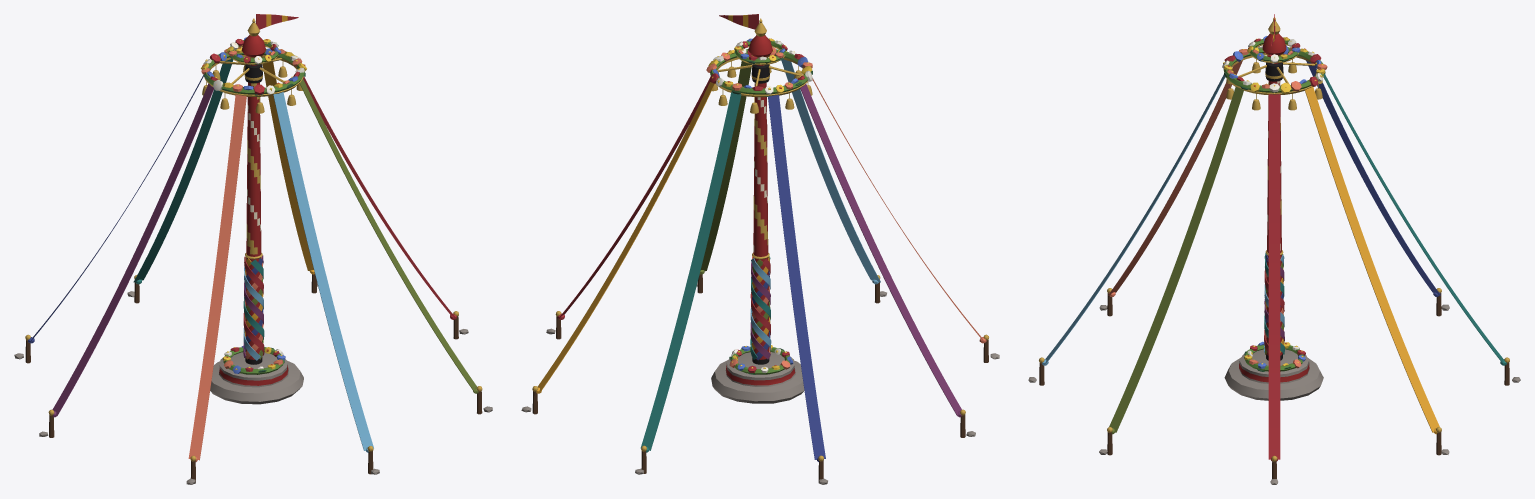
File: deco_maypole.fbx
3 renders of one model, left to right at view 1: azimuth 30°, elevation 25°; view 2: azimuth 150°, elevation 25°; view 3: azimuth 270°, elevation 25°, orthographic.
Parts seen in each view (by area): view 1: Maypole_Ribbons, Maypole_Pole, Maypole_Crown, Maypole_Base, Maypole_Pegs; view 2: Maypole_Ribbons, Maypole_Pole, Maypole_Crown, Maypole_Base, Maypole_Pegs; view 3: Maypole_Ribbons, Maypole_Crown, Maypole_Base, Maypole_Pole, Maypole_Pegs.
Boxes of the visible parts, x1,y1,x2,y2 form: Maypole_Ribbons: (28, 57, 478, 461); Maypole_Pole: (243, 64, 264, 364); Maypole_Crown: (201, 18, 306, 113); Maypole_Base: (210, 346, 303, 404); Maypole_Pegs: (14, 274, 492, 484); Maypole_Ribbons: (536, 59, 986, 461); Maypole_Pole: (750, 65, 771, 364); Maypole_Crown: (706, 18, 812, 113); Maypole_Base: (711, 345, 804, 403); Maypole_Pegs: (521, 274, 999, 484); Maypole_Ribbons: (1042, 60, 1506, 461); Maypole_Crown: (1222, 17, 1327, 110); Maypole_Base: (1224, 341, 1323, 400); Maypole_Pole: (1264, 63, 1284, 360); Maypole_Pegs: (1028, 288, 1520, 484).
Size of the model in its own units: 644 by 536 by 643.
